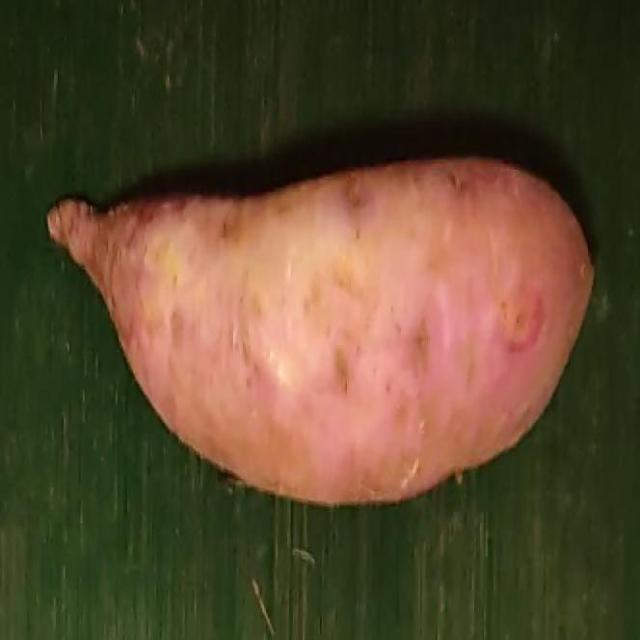Sweet Potato: (46, 156, 596, 506)
